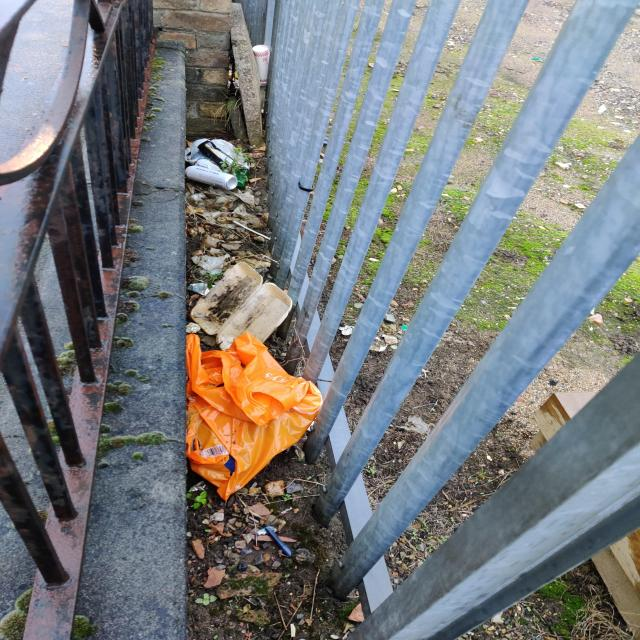litter: (175, 331, 326, 500), (189, 261, 294, 347), (182, 138, 243, 171), (184, 165, 238, 190), (196, 140, 236, 169), (237, 160, 252, 188)
